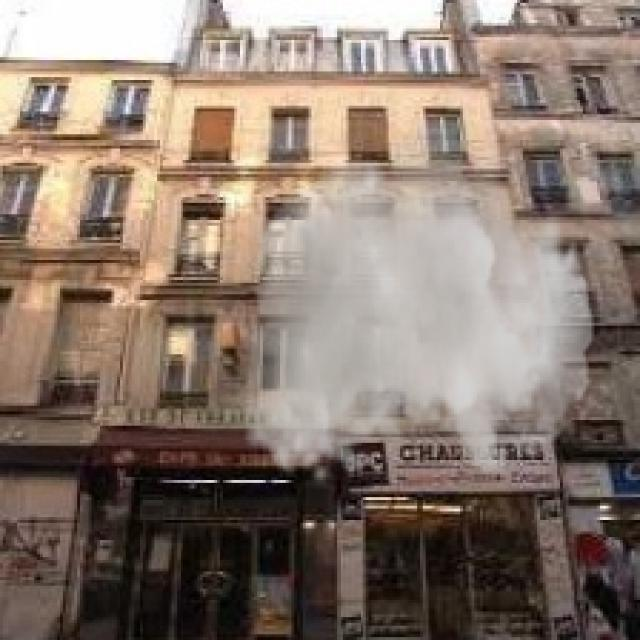Smoke: (240, 109, 594, 488)
